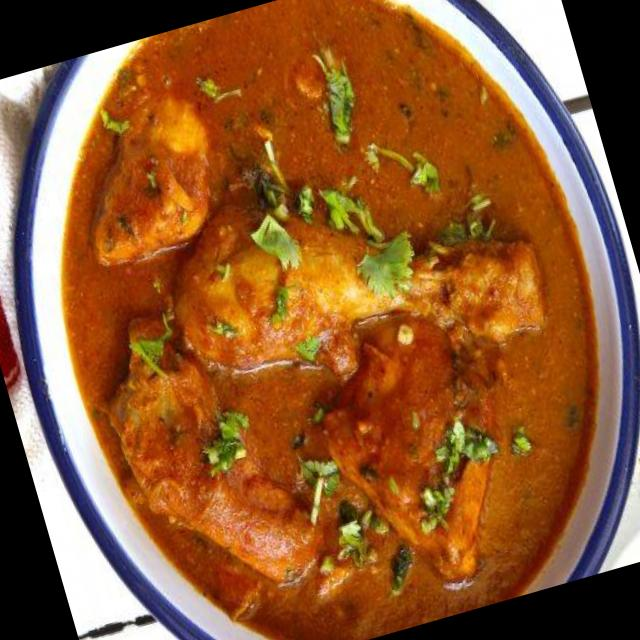chicken: (27, 0, 634, 640)
